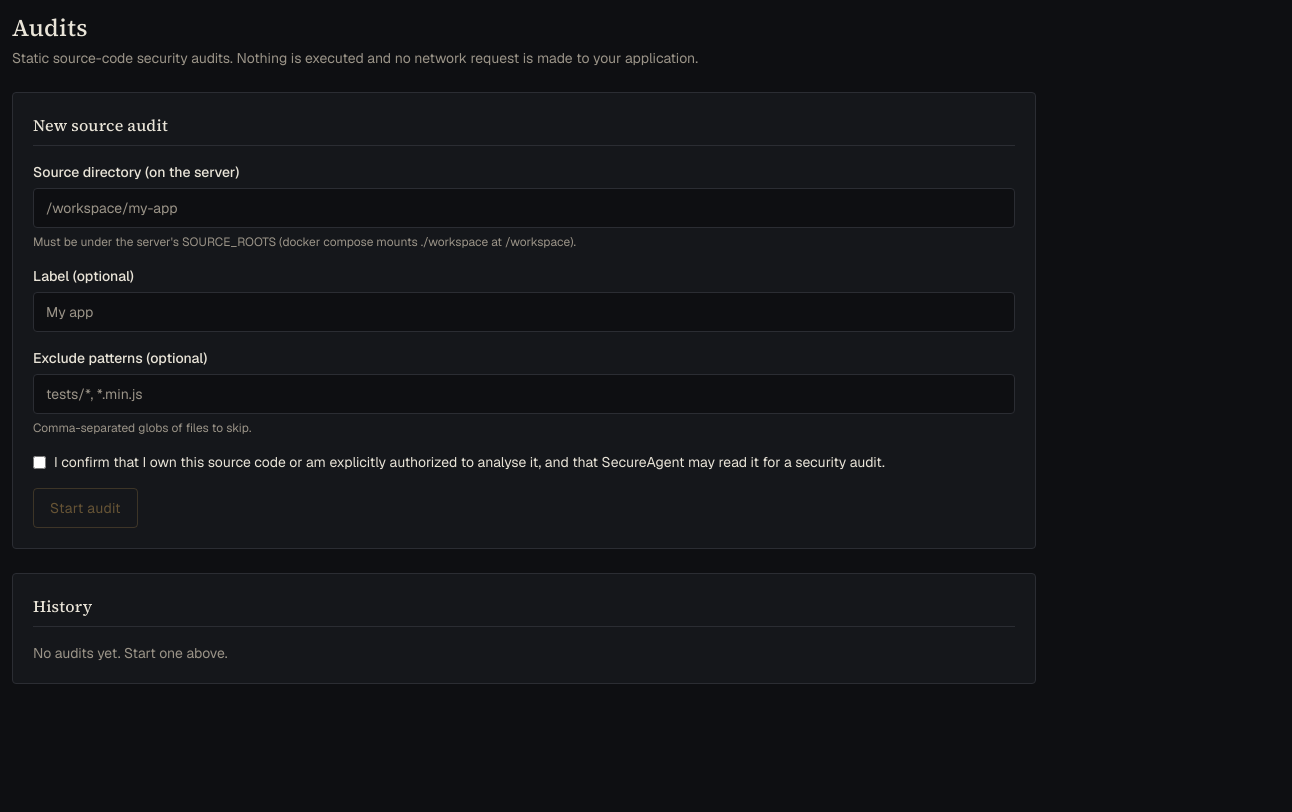
AuditsPage › requires the authorization statement before an audit can start
This screenshot has width=1292, height=812.
Expected: the button "Start audit" is disabled, x1=33 y1=488 x2=138 y2=528
Step 1. Click the checkbox → (40, 462), box x1=33 y1=456 x2=46 y2=469
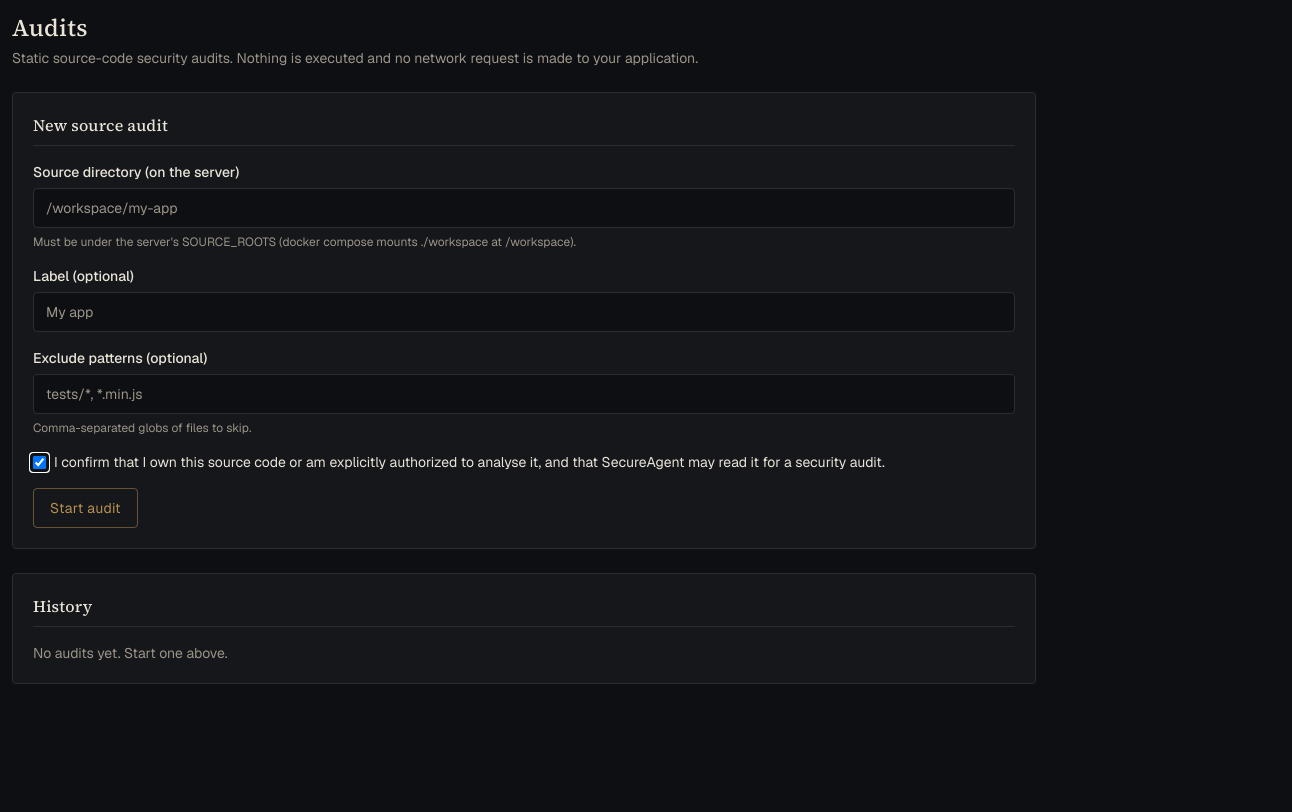
Expected: the button "Start audit" is enabled, x1=33 y1=488 x2=138 y2=528
